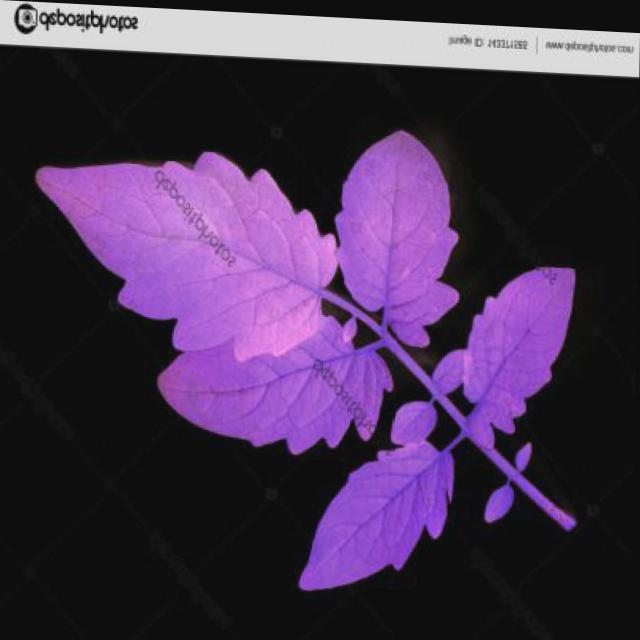Tomato bacterial spot leaf: (34, 141, 336, 359), (155, 289, 398, 465), (288, 418, 468, 615), (327, 110, 465, 350), (458, 243, 590, 438)
